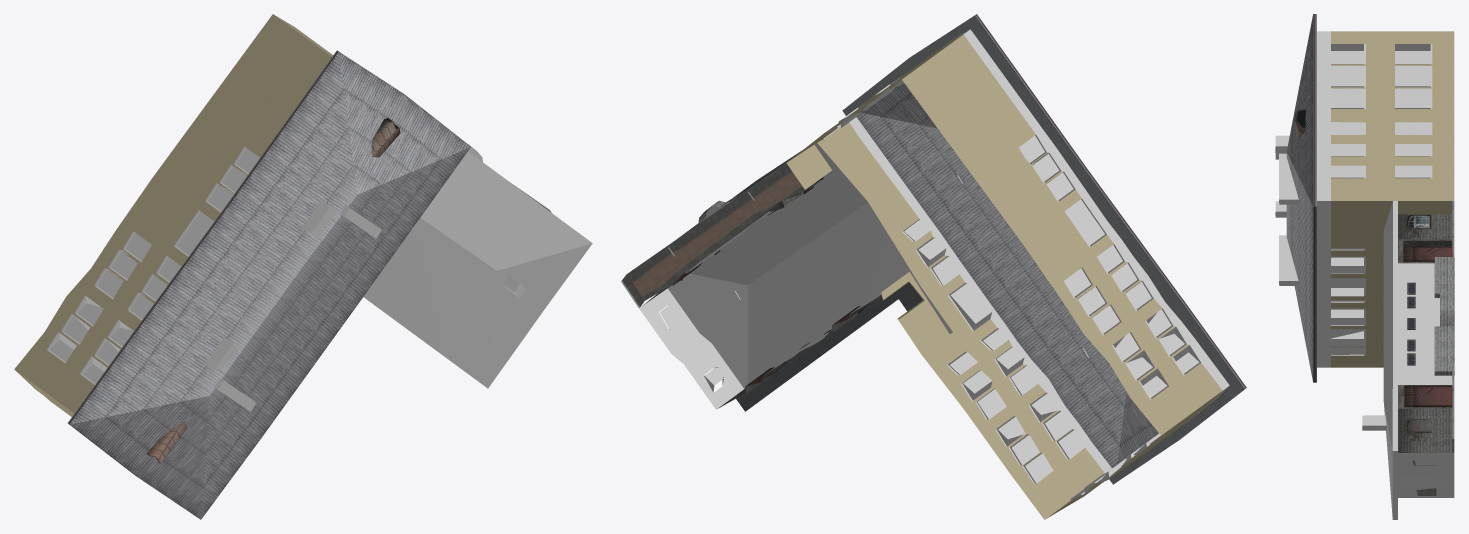
File: Estonia_pst_6_2-origo.obj
3 views of the same model, side by side, from view 1: azimuth 30°, elevation 25°; view 2: azimuth 150°, elevation 25°; view 3: azimuth 270°, elevation 25° (orthographic).
Visible parts, largest first — view 1: Estonia_pst_6_2; view 2: Estonia_pst_6_2; view 3: Estonia_pst_6_2.
Boxes of the visible parts, x1,y1,x2,y2 form: Estonia_pst_6_2: [14, 14, 592, 519]; Estonia_pst_6_2: [621, 14, 1246, 519]; Estonia_pst_6_2: [1275, 14, 1454, 519].
Bounding box in the file's own units: 39.31 × 29 × 10.79.
